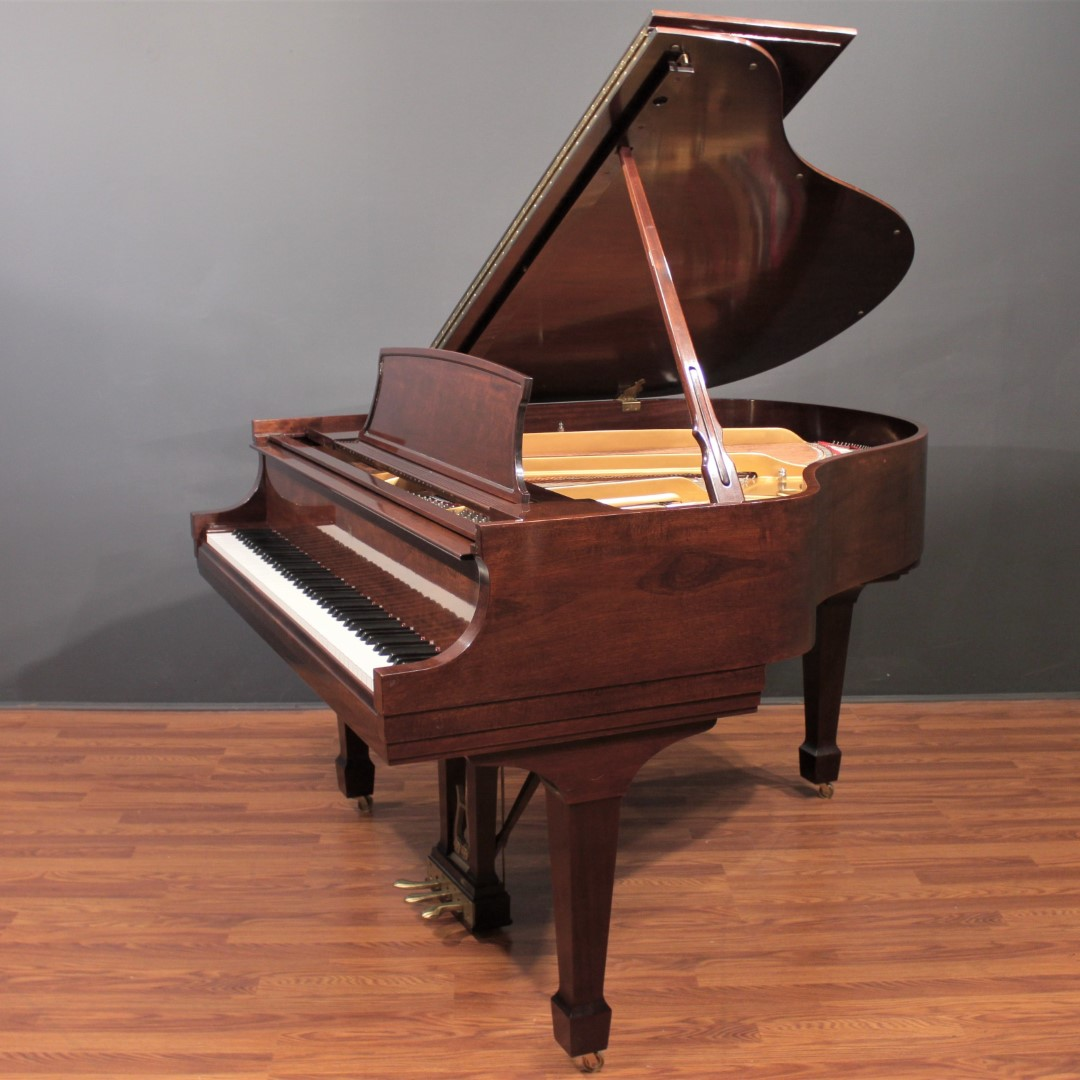GrandPiano: (169, 40, 971, 785)
